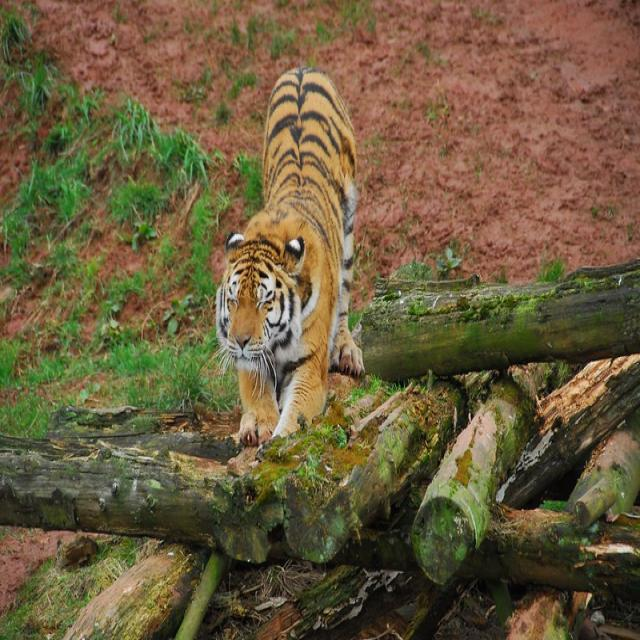Tiger: (208, 61, 366, 450)
